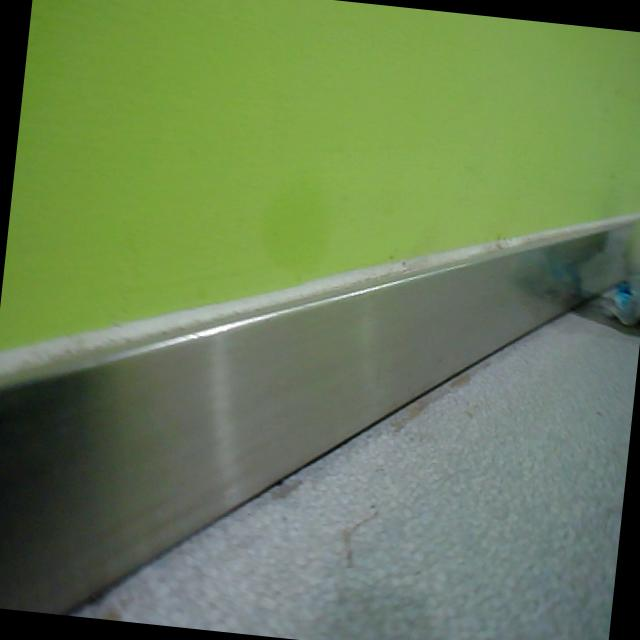xiaoba: (599, 164, 640, 330)
